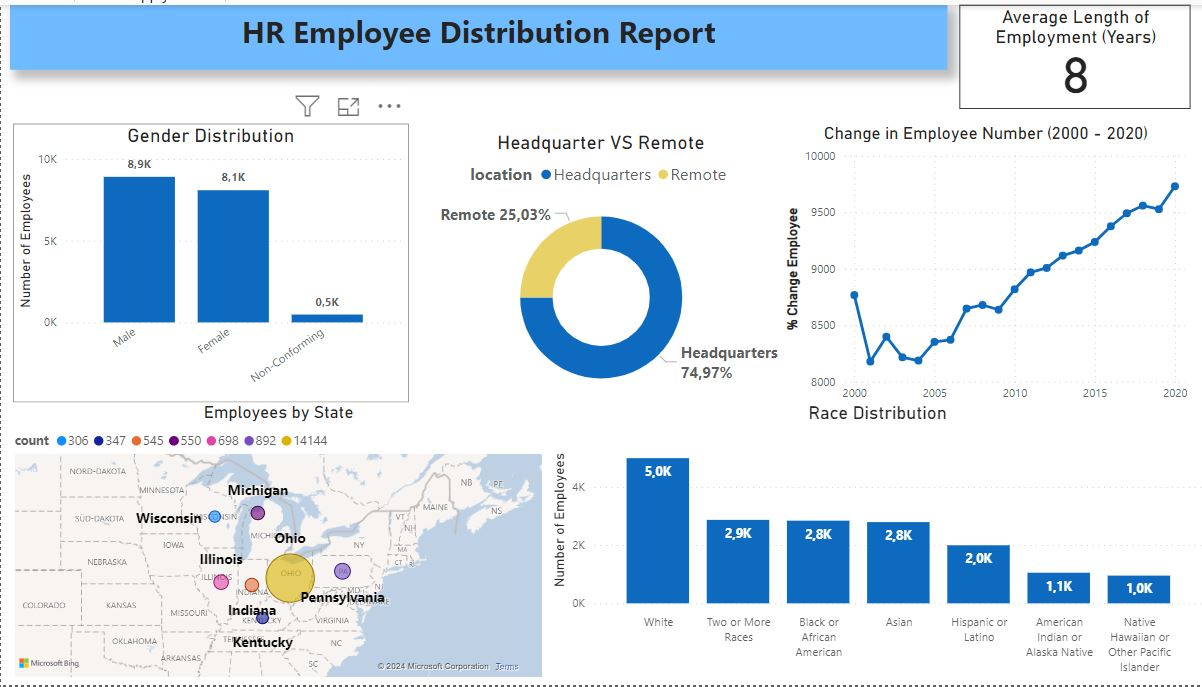

This screenshot's page, from the dashboard's own definition file:
{"tool":"powerbi","page":{"name":"Employee","canvas":[1280,720],"ordinal":0},"visuals":[{"type":"textbox","box":[9.5,0,993.4,68.3],"z":0},{"type":"card","title":"Average Length of Employment (Years)","fields":{"Values":["Avg(avg_length_dept.avg_length_dept)"]},"box":[1015.6,0,244.8,109.7],"z":1000},{"type":"columnChart","title":"Gender Distribution","fields":{"Y":["Sum(gender.count)"],"Category":["gender.gender"]},"box":[12.7,125.6,419.6,295.6],"z":2000},{"type":"donutChart","title":"Headquarter VS Remote","fields":{"Y":["Sum(location.count)"],"Category":["location.location"]},"box":[446.6,133.5,378.3,295.6],"z":3000},{"type":"lineChart","title":"Change in Employee Number (2000 - 2020)","fields":{"Category":["employee_changes.year"],"Y":["Sum(employee_changes.net_change_percent)"]},"box":[824.9,125.6,437.1,303.6],"z":4000},{"type":"map","title":"Employees by State","fields":{"Size":["Sum(state.count)"],"Category":["state.location_state"],"Series":["state.count"]},"box":[10.1,421.3,569.1,295.7],"z":5000},{"type":"clusteredColumnChart","title":"Race Distribution","fields":{"Y":["Sum(race.count)"],"Category":["race.race"]},"box":[579.2,421.3,700.8,295.7],"z":6000}]}

Visuals, with their boxes in screenshot pixels (x1, y1, x2, y2), scaled from the page's 1280x720 canvas onto the 1202x687 screenshot:
textbox: 9,0,942,65
"Average Length of Employment (Years)" card: 954,0,1184,105
"Gender Distribution" columnChart: 12,120,406,402
"Headquarter VS Remote" donutChart: 419,127,775,409
"Change in Employee Number (2000 - 2020)" lineChart: 775,120,1185,410
"Employees by State" map: 9,402,544,684
"Race Distribution" clusteredColumnChart: 544,402,1201,684
